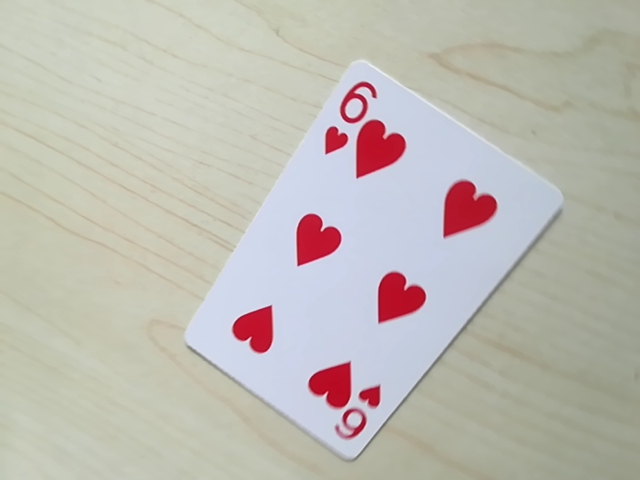hx 6: (325, 73, 385, 141), (324, 390, 387, 448)
